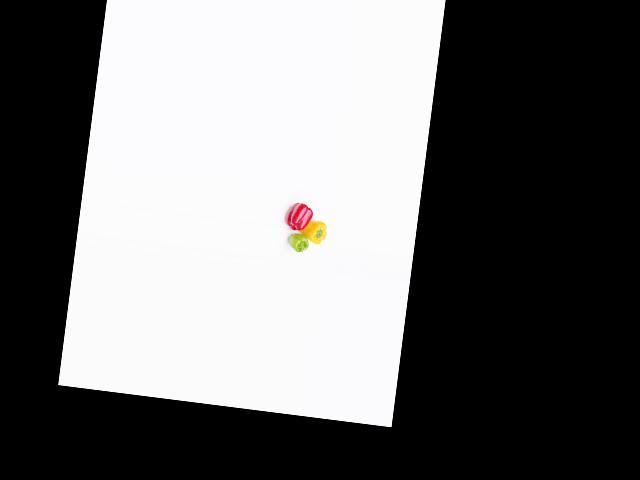bell_pepper: (285, 231, 311, 258)
